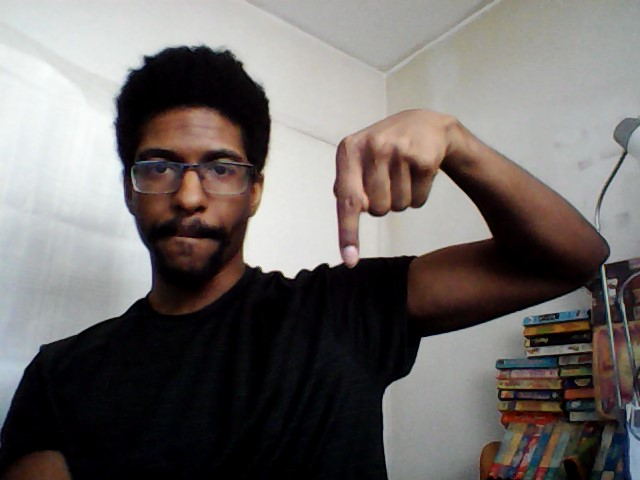q: (328, 104, 460, 273)
